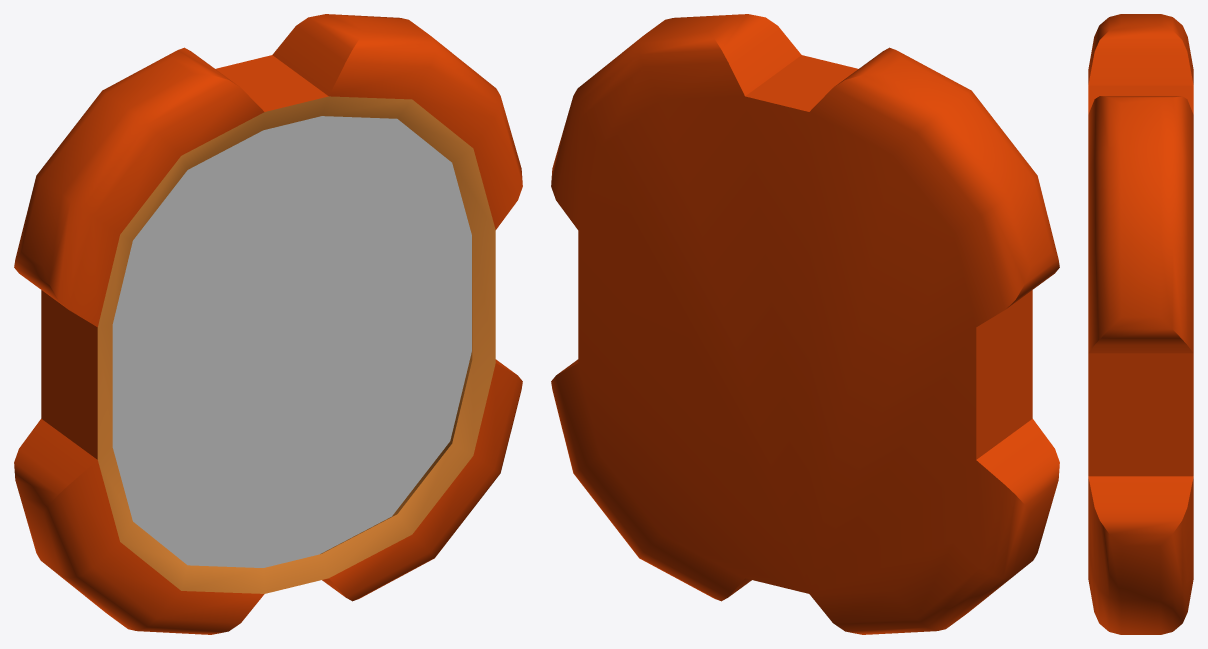
The model's file is Mirror_8C.fbx.
3 views of the same model, side by side, from view 1: azimuth 30°, elevation 25°; view 2: azimuth 150°, elevation 25°; view 3: azimuth 270°, elevation 25° (orthographic). The views are drawn at different scales.
Visible parts, largest first — view 1: Mirror_8C; view 2: Mirror_8C; view 3: Mirror_8C.
Part boxes in pixels (bbox=[...]): Mirror_8C: bbox=[14, 14, 522, 634]; Mirror_8C: bbox=[551, 14, 1059, 634]; Mirror_8C: bbox=[1088, 14, 1193, 634].
Bounding box in the file's own units: 0.7768 × 0.8795 × 0.1611.
